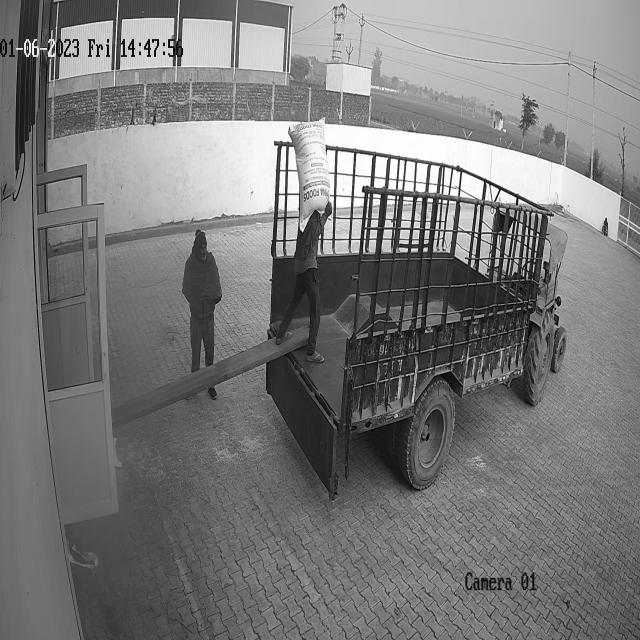sack: (288, 116, 329, 232)
